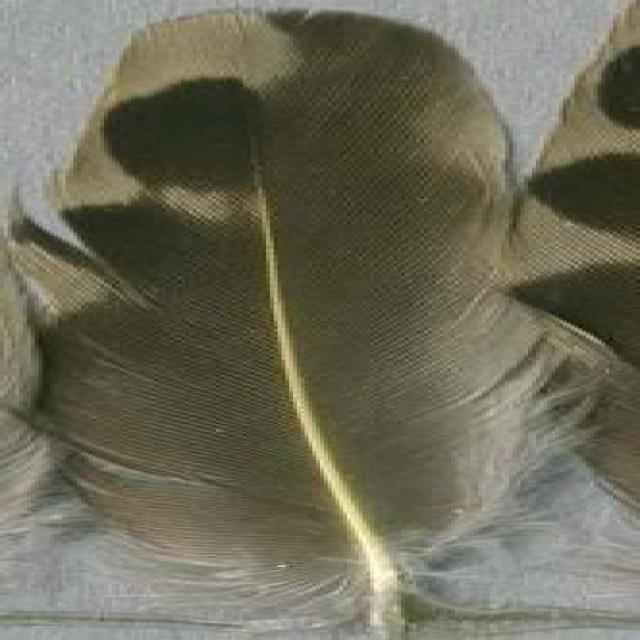feather: (0, 4, 624, 640)
